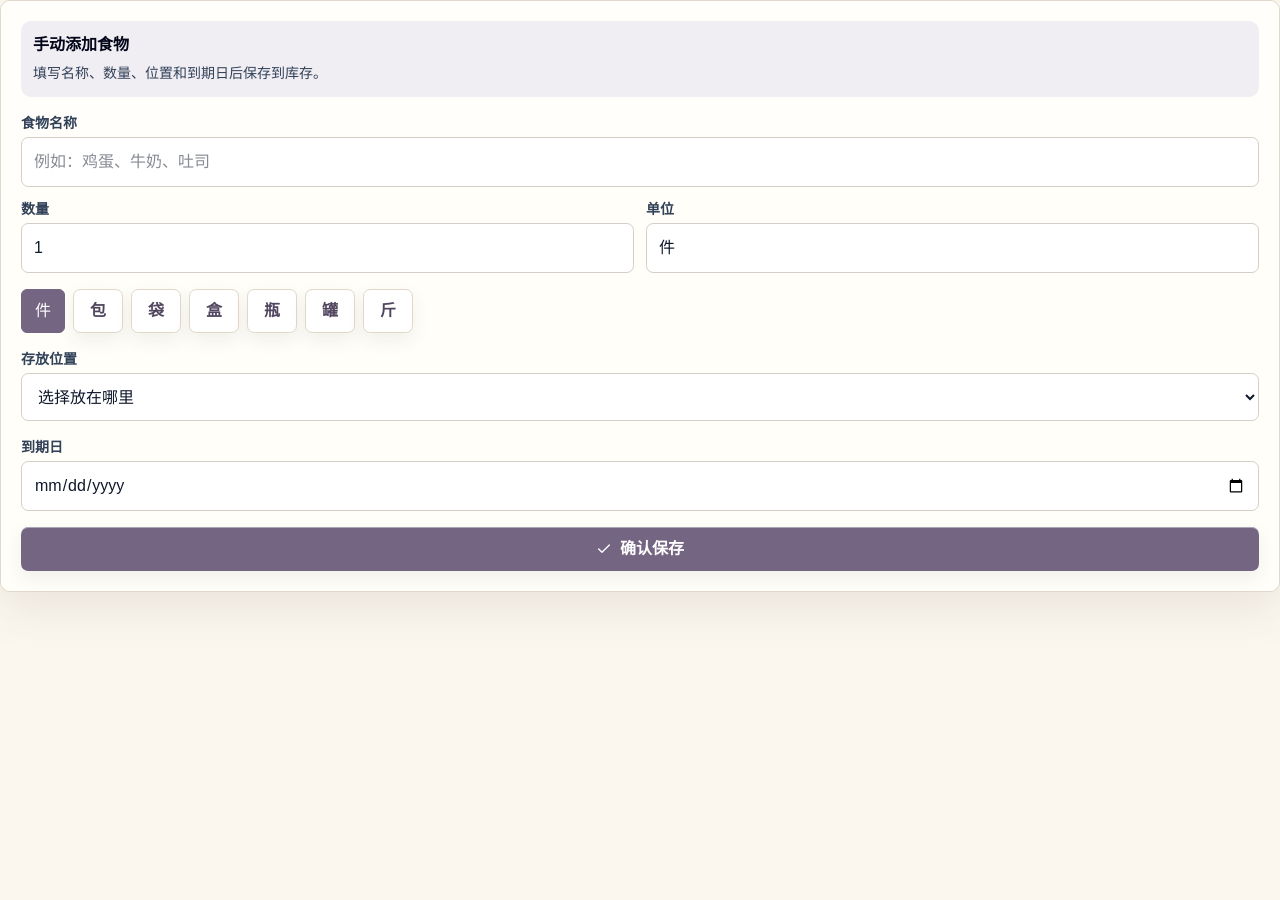
AddFoodConfirmForm › shows field-level errors for missing required fields
Click the button "确认保存" at (640, 549), box [21,527,1259,571]
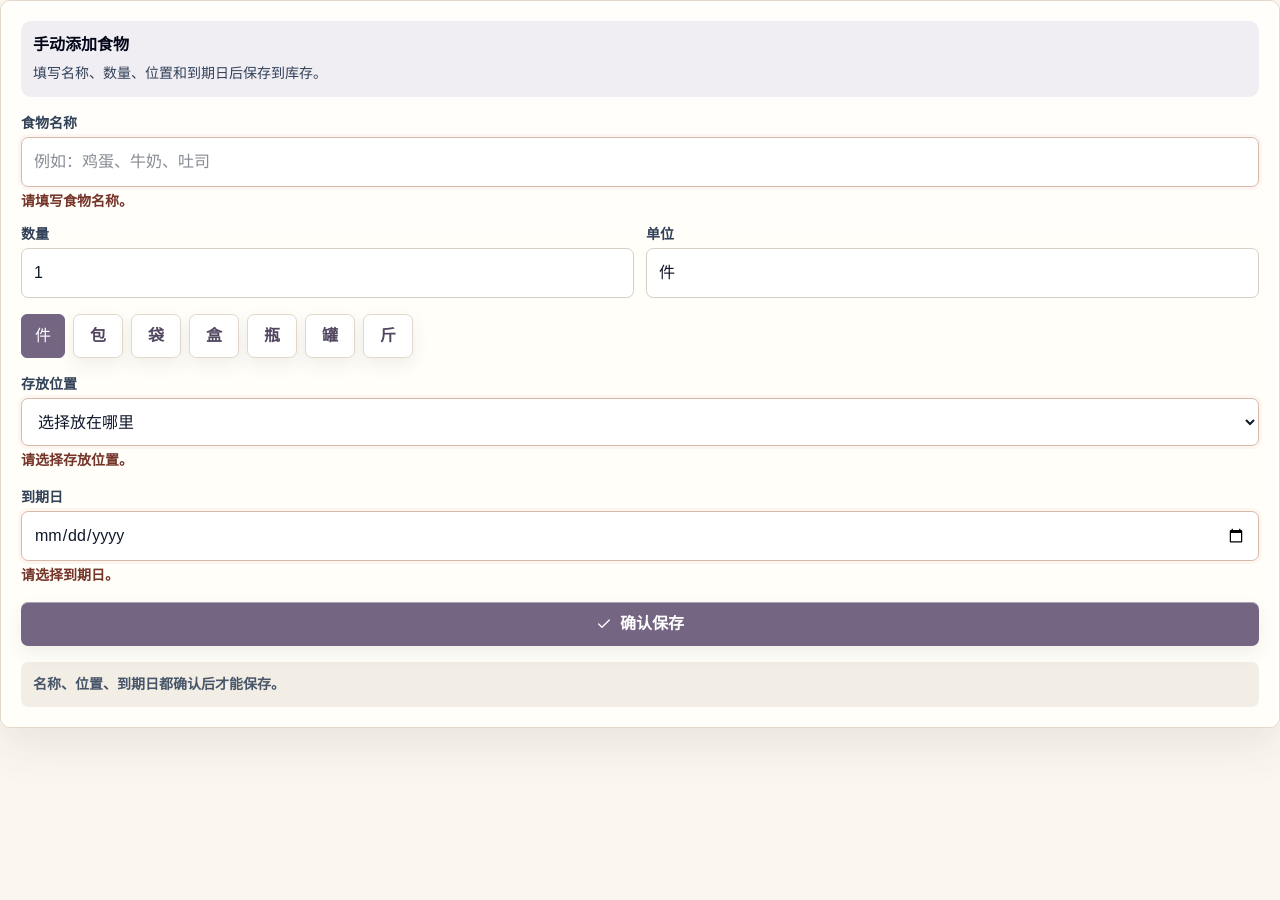
Check: the text "请填写食物名称。" is shown, box [21,193,133,209]
Check: the text "请选择存放位置。" is shown, box [21,452,133,468]
Check: the text "请选择到期日。" is shown, box [21,567,119,583]
